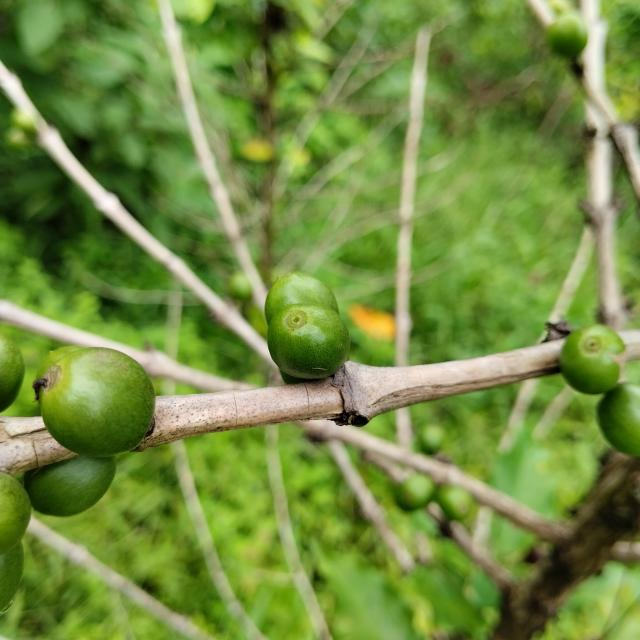green: (37, 348, 155, 457), (267, 303, 350, 379), (23, 456, 115, 517), (560, 324, 627, 394), (265, 272, 339, 324), (598, 383, 640, 457), (0, 334, 24, 412)
